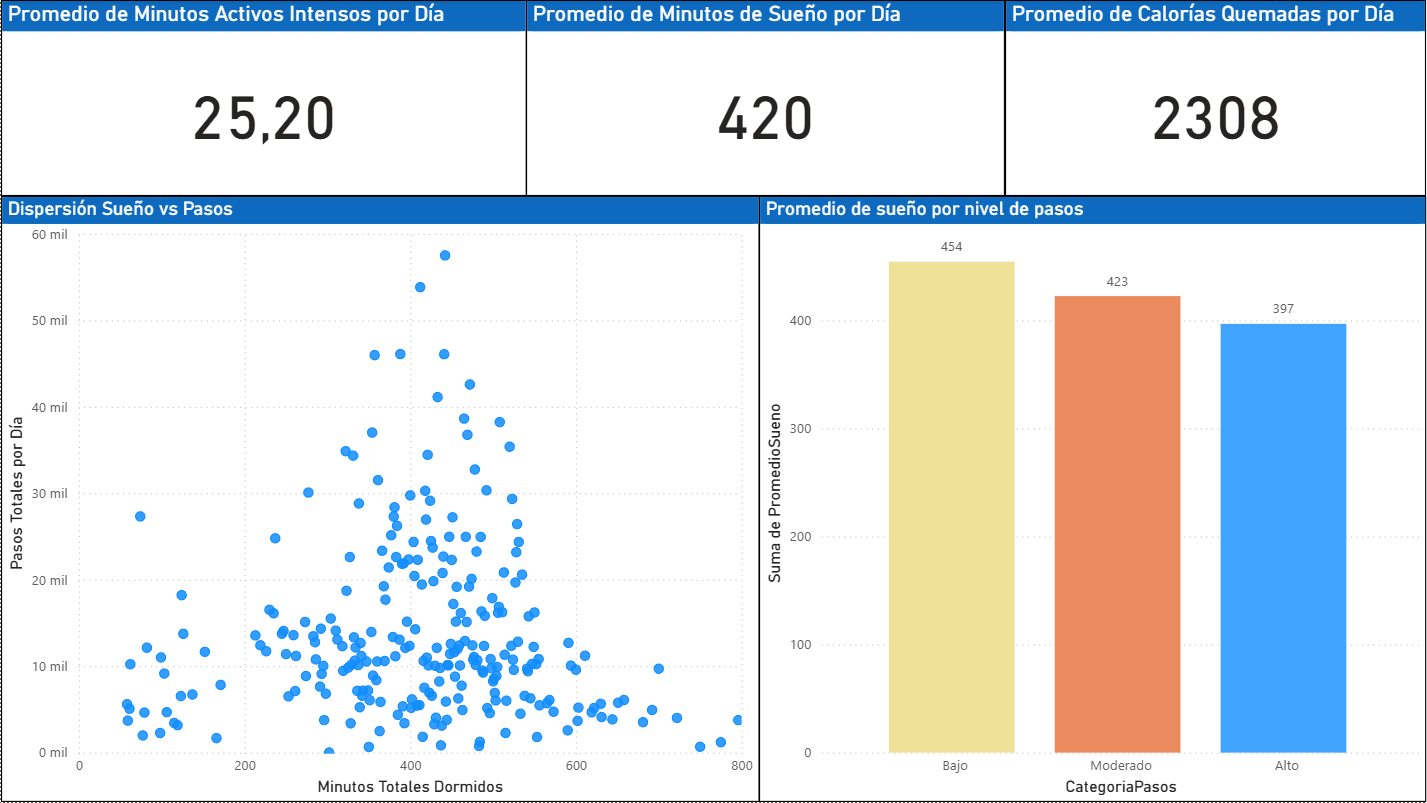

Layout of this report page (visuals, bound fields, positions):
{"tool":"powerbi","page":{"name":"Página 1","canvas":[1280,720],"ordinal":0},"visuals":[{"type":"scatterChart","title":"Dispersión Sueño vs Pasos","fields":{"X":["vw_sueno_vs_pasos.TotalMinutesAsleep"],"Y":["Sum(vw_sueno_vs_pasos.TotalSteps)"]},"box":[0,176,680.9,543.7],"z":0},{"type":"clusteredColumnChart","title":"Promedio de sueño por nivel de pasos","fields":{"Category":["vw_categoria_pasos_sueno.CategoriaPasos"],"Y":["Sum(vw_categoria_pasos_sueno.PromedioSueno)"]},"box":[680.9,176,599.1,543.7],"z":1000},{"type":"card","title":"Promedio de Minutos Activos Intensos por Día","fields":{"Values":["Sum(vw_kpi_resumen.PromedioMinutosIntensos)"]},"box":[0,0,471.7,176],"z":1001},{"type":"card","title":"Promedio de Minutos de Sueño por Día","fields":{"Values":["Sum(vw_kpi_resumen.PromedioSueno)"]},"box":[471.7,0,429.9,176],"z":1002},{"type":"card","title":"Promedio de Calorías Quemadas por Día","fields":{"Values":["Sum(vw_kpi_calorias.PromedioCalorias)"]},"box":[901.6,0,378.4,176],"z":1003}]}

Visuals, with their boxes in screenshot pixels (x1, y1, x2, y2), scaled from the page's 1280x720 canvas onto the 1427x803 screenshot:
"Dispersión Sueño vs Pasos" scatterChart: <box>0,196,759,802</box>
"Promedio de sueño por nivel de pasos" clusteredColumnChart: <box>759,196,1426,802</box>
"Promedio de Minutos Activos Intensos por Día" card: <box>0,0,526,196</box>
"Promedio de Minutos de Sueño por Día" card: <box>526,0,1005,196</box>
"Promedio de Calorías Quemadas por Día" card: <box>1005,0,1426,196</box>
